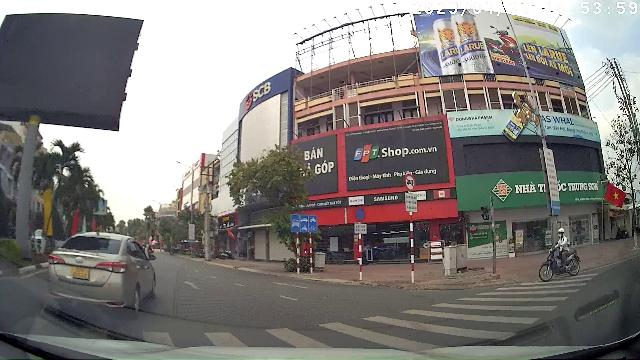130-cam-dung-va-do-xe: (354, 207, 366, 221)
